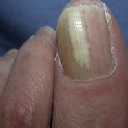Nail Fungal Infection: (61, 7, 96, 66)
